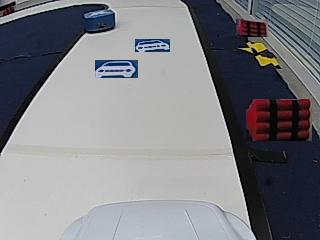prop: (85, 9, 115, 33)
